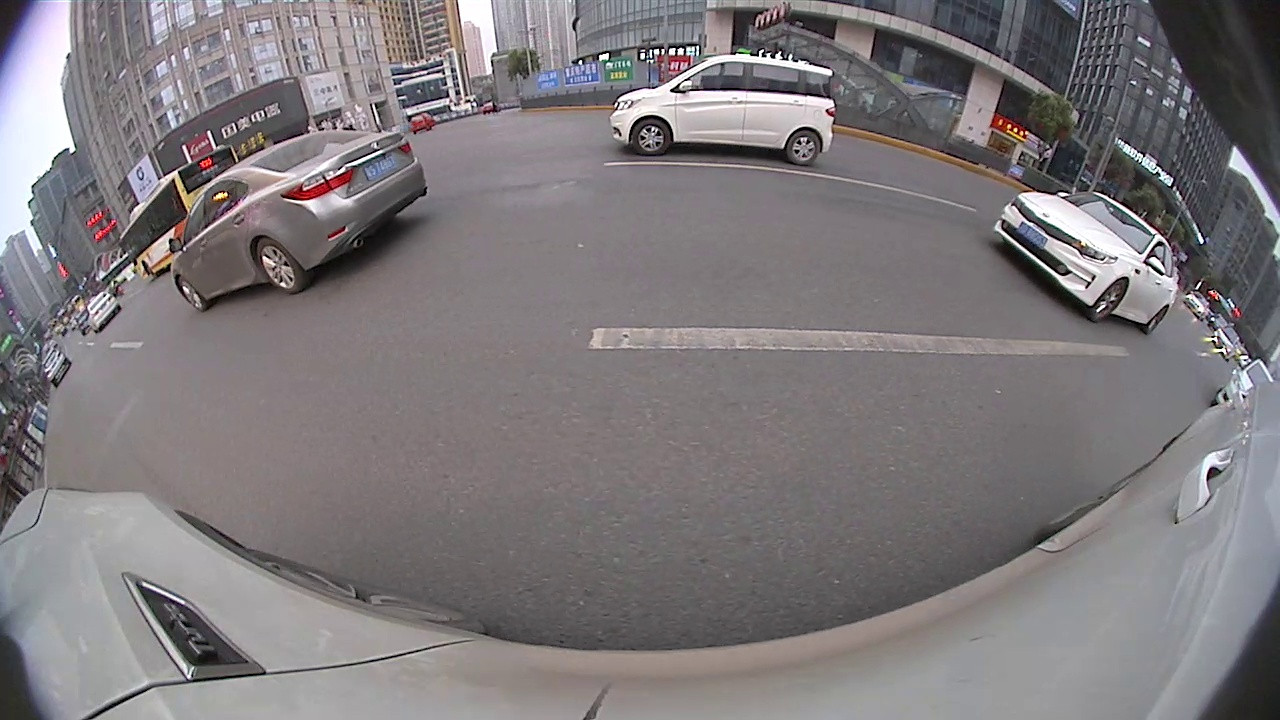bus: (118, 142, 248, 286)
car: (170, 124, 433, 313), (993, 187, 1184, 337), (611, 57, 837, 173), (1212, 360, 1279, 413), (81, 289, 121, 336)
front: (630, 115, 674, 161), (1086, 278, 1128, 323), (176, 273, 208, 314)
rear: (253, 236, 307, 297), (786, 128, 824, 168), (1142, 303, 1169, 337)
